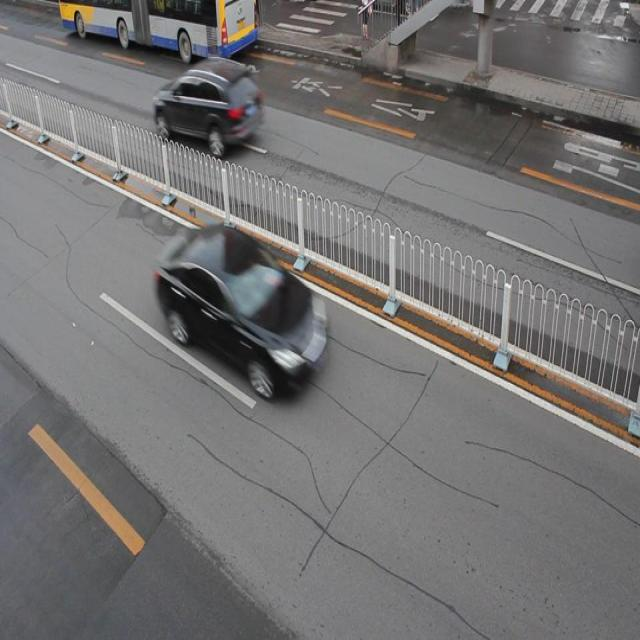car: (154, 219, 328, 396), (153, 55, 262, 155)
van: (58, 1, 256, 55)
